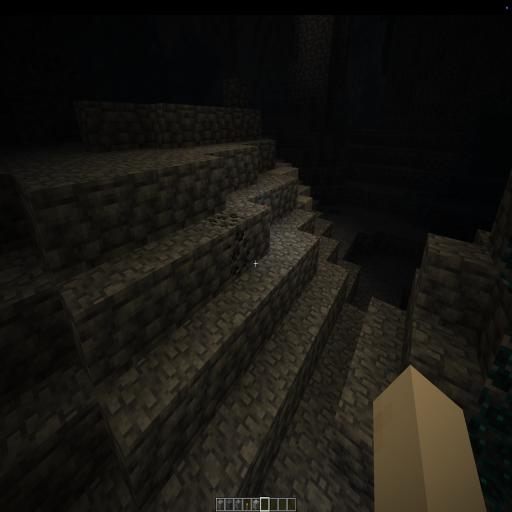coal ore: (202, 210, 251, 279)
